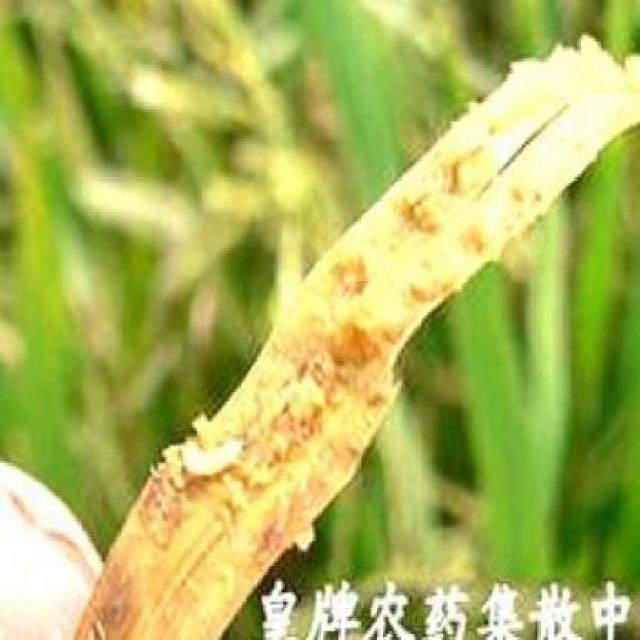whorl-maggot: (174, 431, 246, 492)
